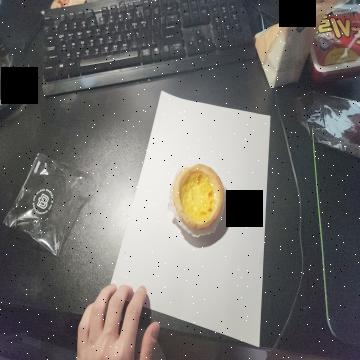EggTart: (173, 163, 225, 232)
